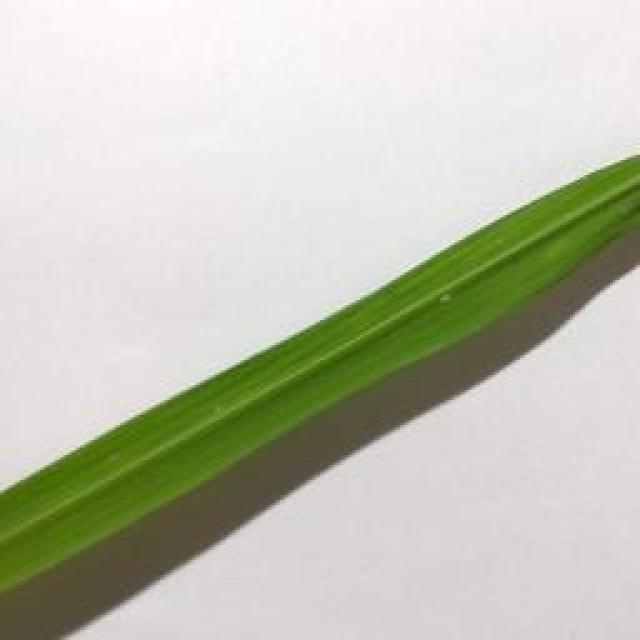Healthy-Plant: (236, 255, 434, 469), (0, 383, 200, 585), (461, 152, 638, 362)
